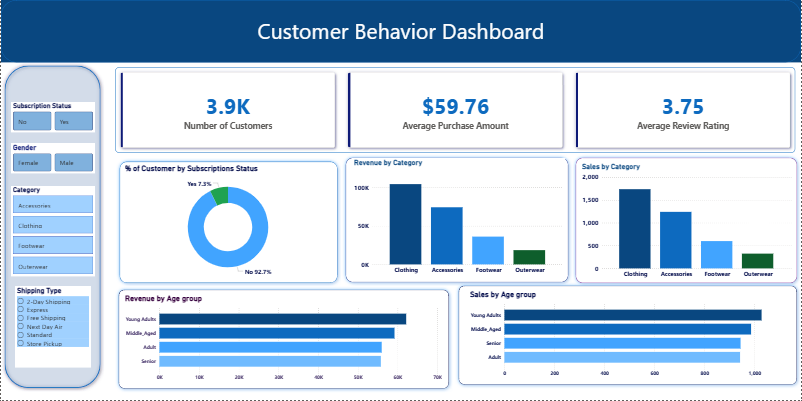

The page's visual inventory and layout, read from the dashboard file:
{"tool":"powerbi","page":{"name":"Page 1","canvas":[2000,1000],"ordinal":0},"visuals":[{"type":"cardVisual","fields":{"Data":["public customer.Number of Customers","public customer.Average Purchase Amount","public customer.Average Review Rating"]},"box":[272,156,1728,240],"z":0},{"type":"shape","box":[1428,384,572,332],"z":1000},{"type":"shape","box":[287.1,395.7,562.9,321.4],"z":2000},{"type":"shape","box":[853.3,385,575,330],"z":3000},{"type":"donutChart","title":"% of Customer by Subscriptions Status","fields":{"Category":["public customer.subscription_status"],"Y":["Sum(public customer.customer_id)"]},"box":[305,410,525,293.3],"z":4000},{"type":"shape","box":[0,156,258,824],"z":5000},{"type":"advancedSlicerVisual","title":"Subscription Status","fields":{"Values":["public customer.subscription_status"]},"box":[24,254,210,76],"z":6000},{"type":"advancedSlicerVisual","title":"Category","fields":{"Values":["public customer.category"]},"box":[24,464,210,226],"z":7000},{"type":"listSlicer","title":"Shipping Type","fields":{"Values":["public customer.shipping_type"]},"box":[34,714,190,204],"z":8000},{"type":"clusteredBarChart","title":"Revenue by Age group","fields":{"Y":["Sum(public customer.purchase_amount)"],"Category":["public customer.age_group"]},"box":[306,734,802,226],"z":9000},{"type":"shape","box":[286,714,844,266],"z":10000},{"type":"shape","box":[1136,706,864,266],"z":11000},{"type":"clusteredBarChart","title":"Revenue by Age group","fields":{"Y":["Sum(public customer.purchase_amount)"],"Category":["public customer.age_group"]},"box":[306,734,802,226],"z":12000},{"type":"clusteredBarChart","title":"Sales by Age group","fields":{"Category":["public customer.age_group"],"Y":["CountNonNull(public customer.customer_id)"]},"box":[1168,726,800,226],"z":13000},{"type":"advancedSlicerVisual","title":"Gender","fields":{"Values":["public customer.gender"]},"box":[24,358,210,76],"z":14000},{"type":"shape","box":[0,0,2000,156],"z":15000},{"type":"textbox","box":[0,34,2000,122],"z":16000},{"type":"columnChart","title":"Revenue by Category","fields":{"Category":["public customer.category"],"Y":["Sum(public customer.purchase_amount)"]},"box":[877.5,395,532.5,300],"z":16001},{"type":"columnChart","title":"Sales by Category","fields":{"Category":["public customer.category"],"Y":["CountNonNull(public customer.customer_id)"]},"box":[1447.5,405,532.5,300],"z":16002}]}

Visuals, with their boxes in screenshot pixels (x1, y1, x2, y2), scaled from the page's 2000x1000 canvas onto the 802x401 screenshot:
cardVisual - public customer.Number of Customers x public customer.Average Purchase Amount: bbox=[109, 63, 801, 159]
shape: bbox=[573, 154, 801, 287]
shape: bbox=[115, 159, 341, 288]
shape: bbox=[342, 154, 573, 287]
"% of Customer by Subscriptions Status" donutChart: bbox=[122, 164, 333, 282]
shape: bbox=[0, 63, 103, 393]
"Subscription Status" advancedSlicerVisual: bbox=[10, 102, 94, 132]
"Category" advancedSlicerVisual: bbox=[10, 186, 94, 277]
"Shipping Type" listSlicer: bbox=[14, 286, 90, 368]
"Revenue by Age group" clusteredBarChart: bbox=[123, 294, 444, 385]
shape: bbox=[115, 286, 453, 393]
shape: bbox=[456, 283, 801, 390]
"Revenue by Age group" clusteredBarChart: bbox=[123, 294, 444, 385]
"Sales by Age group" clusteredBarChart: bbox=[468, 291, 789, 382]
"Gender" advancedSlicerVisual: bbox=[10, 144, 94, 174]
shape: bbox=[0, 0, 801, 63]
textbox: bbox=[0, 14, 801, 63]
"Revenue by Category" columnChart: bbox=[352, 158, 565, 279]
"Sales by Category" columnChart: bbox=[580, 162, 794, 283]
